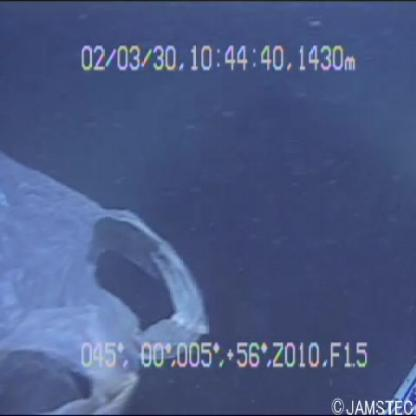Rác: (1, 127, 214, 414)
